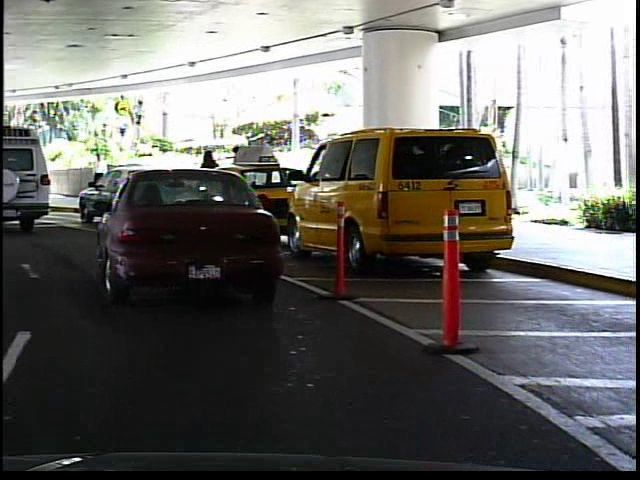person: (195, 143, 227, 206), (229, 140, 254, 205), (87, 146, 111, 201), (20, 156, 40, 197)
